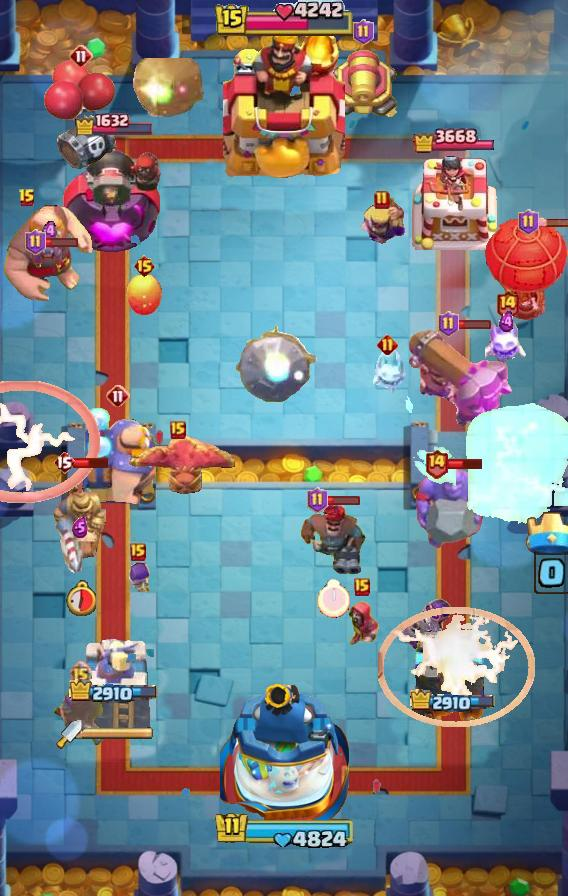archer-queen: (412, 468, 490, 550)
arrows: (358, 199, 406, 245)
balloon: (0, 204, 94, 304)
bar: (77, 637, 151, 731)
barbarian-barrel: (31, 241, 67, 273)
barbarian-evolution: (378, 606, 534, 728), (0, 381, 100, 503)
bat: (365, 346, 409, 396)
bomb-tower: (52, 680, 108, 746)
bowler: (344, 600, 380, 648)
cannon-cart: (484, 219, 568, 321)
clock: (210, 810, 358, 852), (213, 0, 355, 40)
electro-spirit: (499, 311, 515, 333), (72, 518, 88, 539), (43, 221, 57, 244)
elixir: (317, 579, 351, 618), (65, 580, 95, 616)
emote: (74, 455, 111, 469), (448, 457, 485, 470), (43, 236, 79, 247), (456, 318, 492, 329), (325, 495, 361, 506), (536, 217, 568, 228)
furnace: (406, 327, 514, 427)
goblin: (123, 561, 153, 601)
goblin-ball: (401, 598, 453, 654)
hog: (124, 273, 164, 317)
king-tower: (219, 678, 349, 826), (223, 27, 345, 181)
king-tower-bar: (82, 727, 154, 741)
little-prince: (74, 406, 162, 506)
mega-knight: (401, 382, 568, 528)
mirror: (485, 314, 529, 368)
mother-witch: (121, 433, 235, 499)
phoenix-small: (298, 499, 368, 577)
queen-tower: (406, 152, 500, 256), (411, 619, 495, 731)
ram-rider: (51, 467, 109, 577)
royal-recruit: (327, 49, 399, 123)
royal-recruit-evolution: (42, 57, 120, 173)
selected: (414, 125, 495, 157), (68, 678, 159, 705), (411, 689, 498, 715), (73, 110, 154, 135)
text: (495, 289, 520, 320), (424, 448, 449, 479), (69, 44, 93, 68), (106, 384, 130, 408), (353, 19, 375, 45), (132, 254, 155, 278), (68, 660, 91, 684), (517, 209, 538, 235), (25, 229, 46, 255), (437, 311, 458, 337), (307, 487, 328, 513), (53, 450, 75, 474), (378, 334, 399, 355), (18, 188, 36, 208), (374, 190, 390, 210), (170, 421, 186, 439), (130, 543, 146, 561), (354, 578, 370, 596)
tower-bar: (62, 138, 166, 256)
x-bow: (234, 324, 317, 404), (122, 58, 208, 120)
